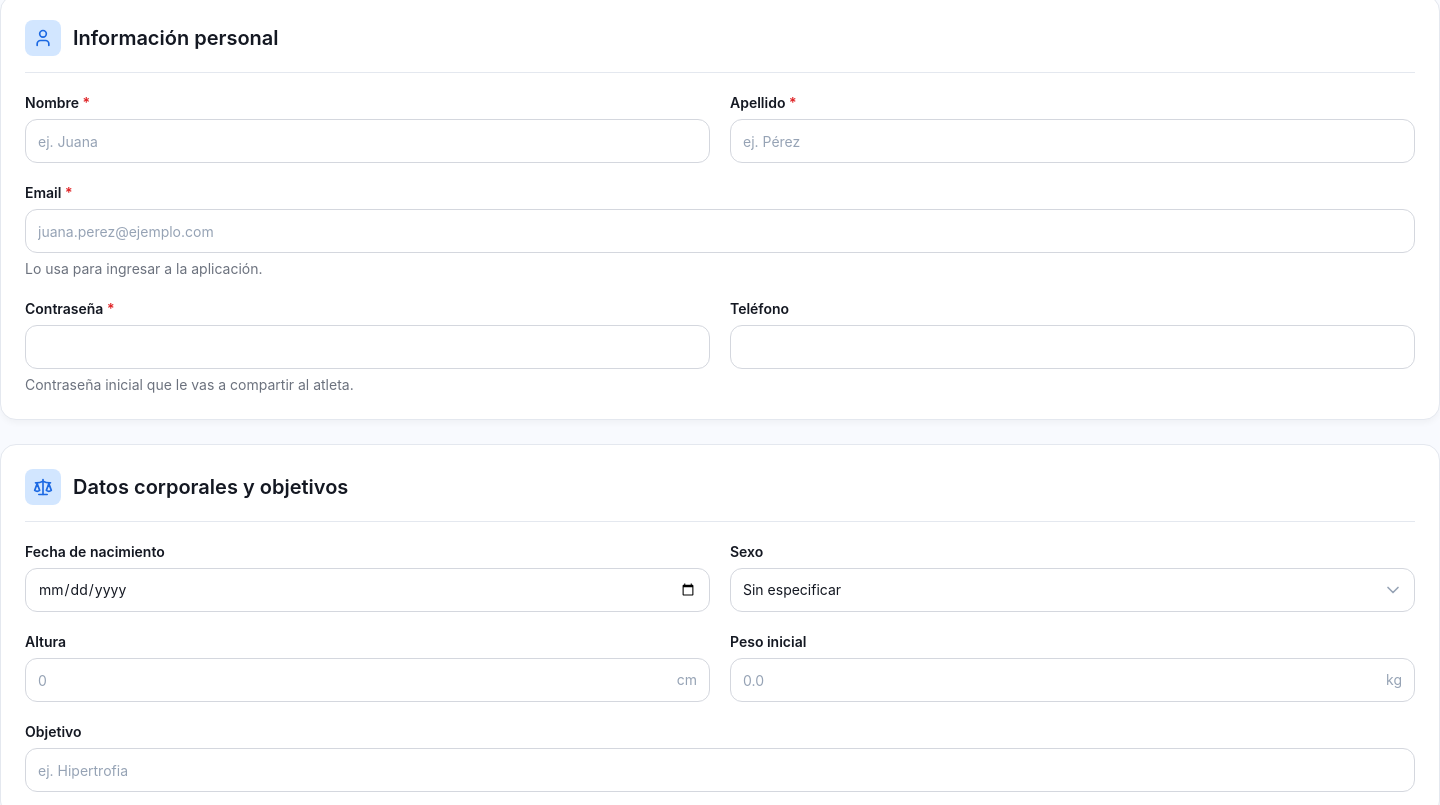
Test: RegisterAthleteForm › muestra un mensaje genérico ante un error inesperado
The image size is (1440, 805).
Step 1. Type " Juana " into the field labelled "Nombre *" → (368, 141), box [25,119,710,163]
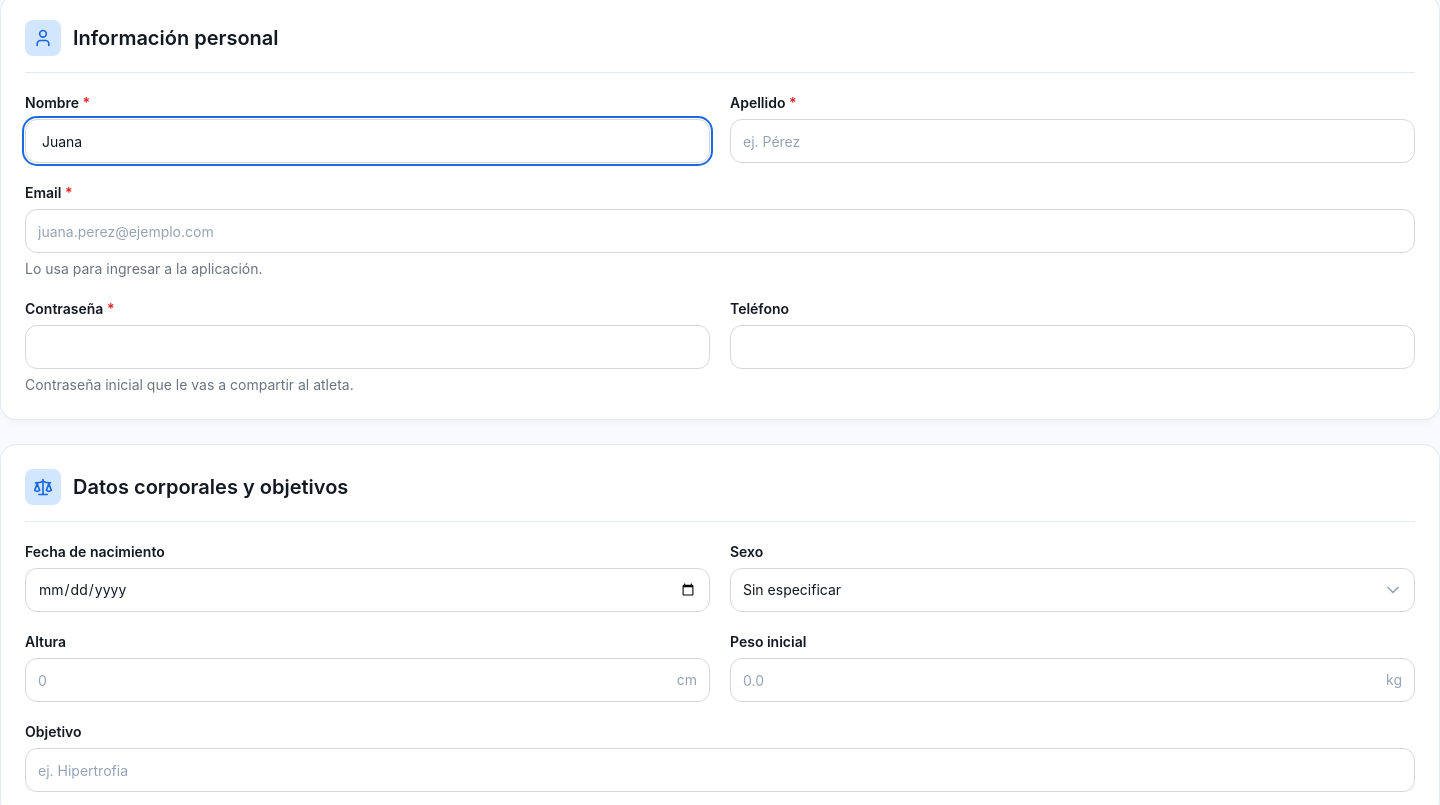
Step 2. Type "Pérez" into the field labelled "Apellido *" → (1072, 141), box [730,119,1415,163]
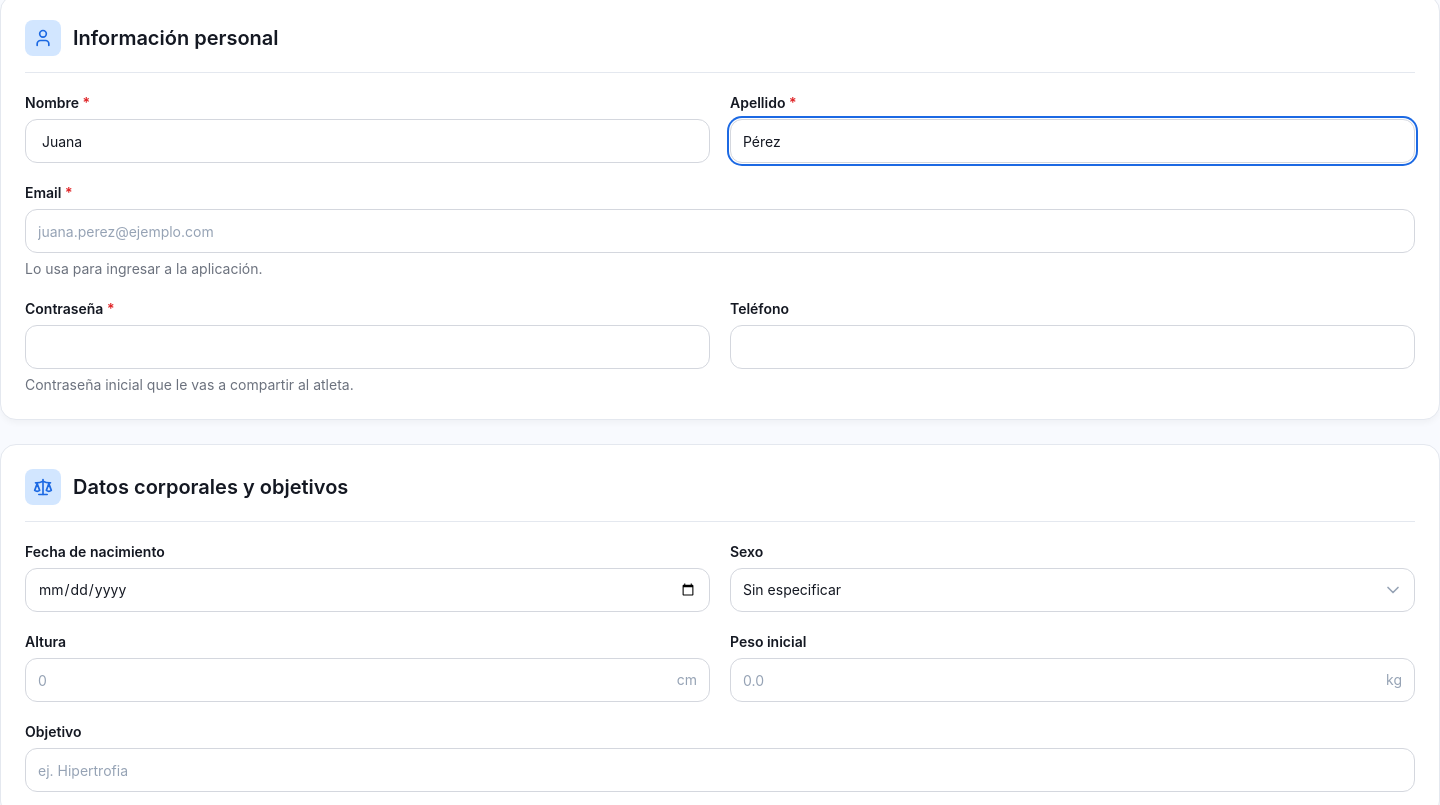
Step 3. Type "juana@example.com" into the field labelled "Email *" → (720, 231), box [25,209,1415,253]
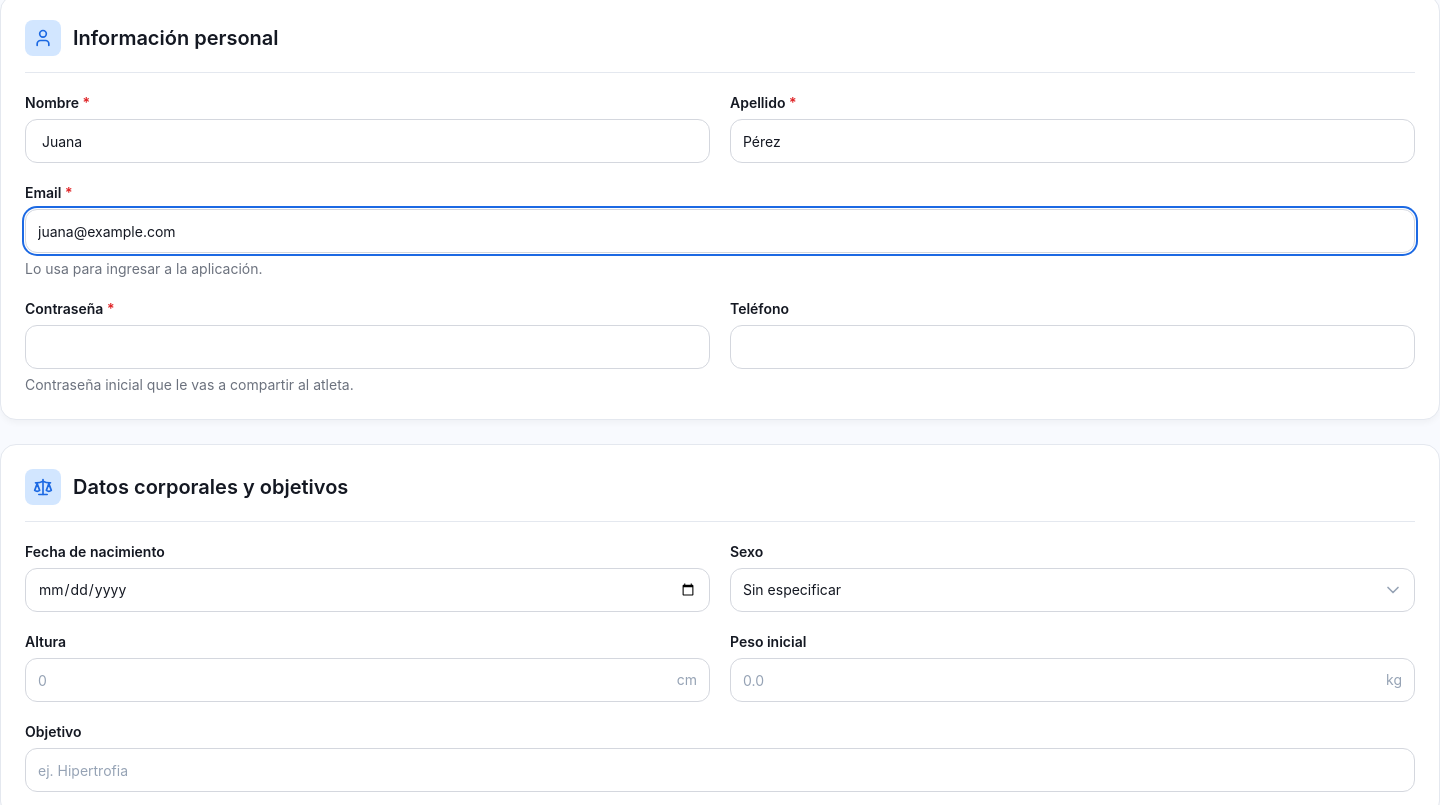
Step 4. Type "12345678" into the password field labelled "Contraseña *" → (368, 347), box [25,325,710,369]
(page scrolled)
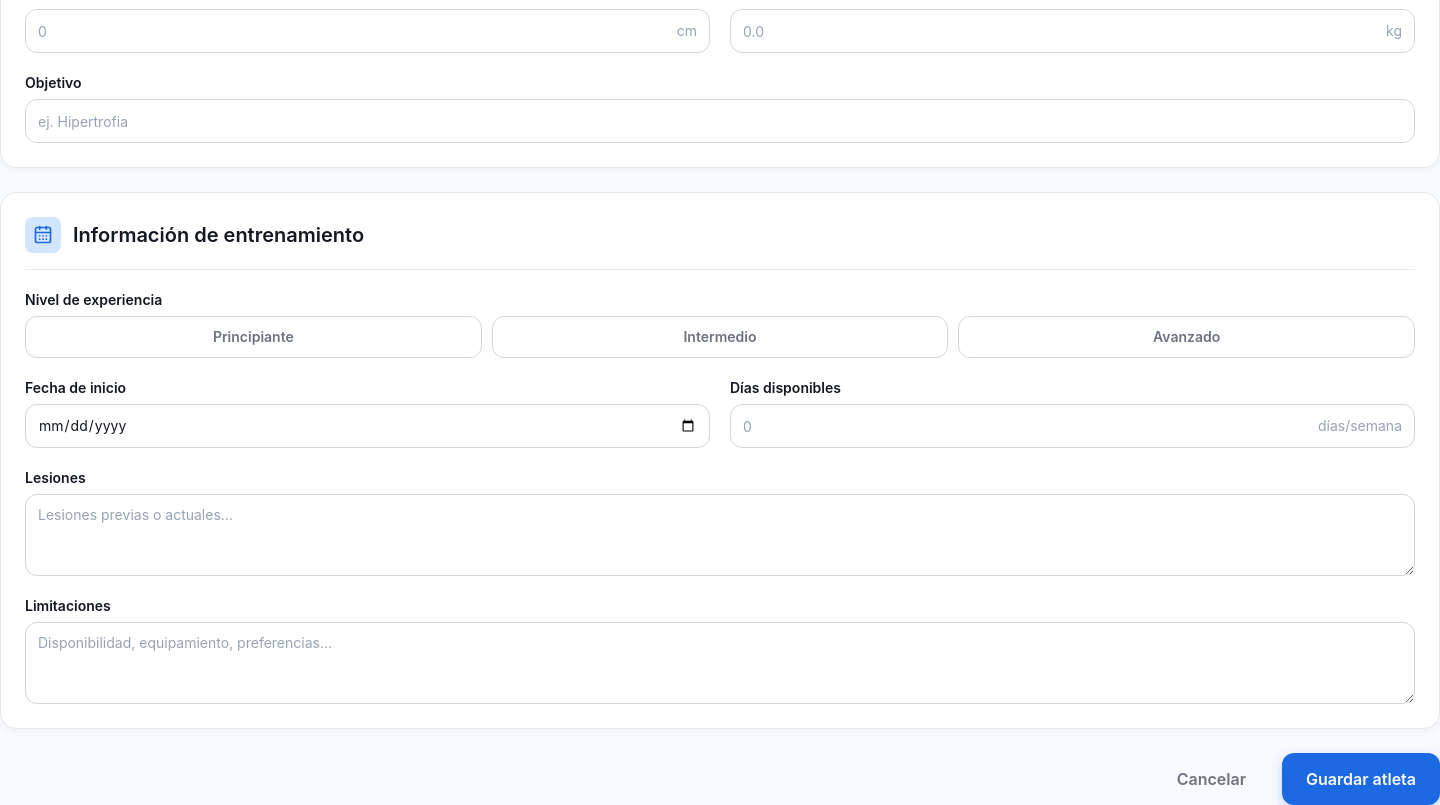
Step 5. Click the button "Guardar atleta" → (1361, 779), box [1282,753,1439,804]
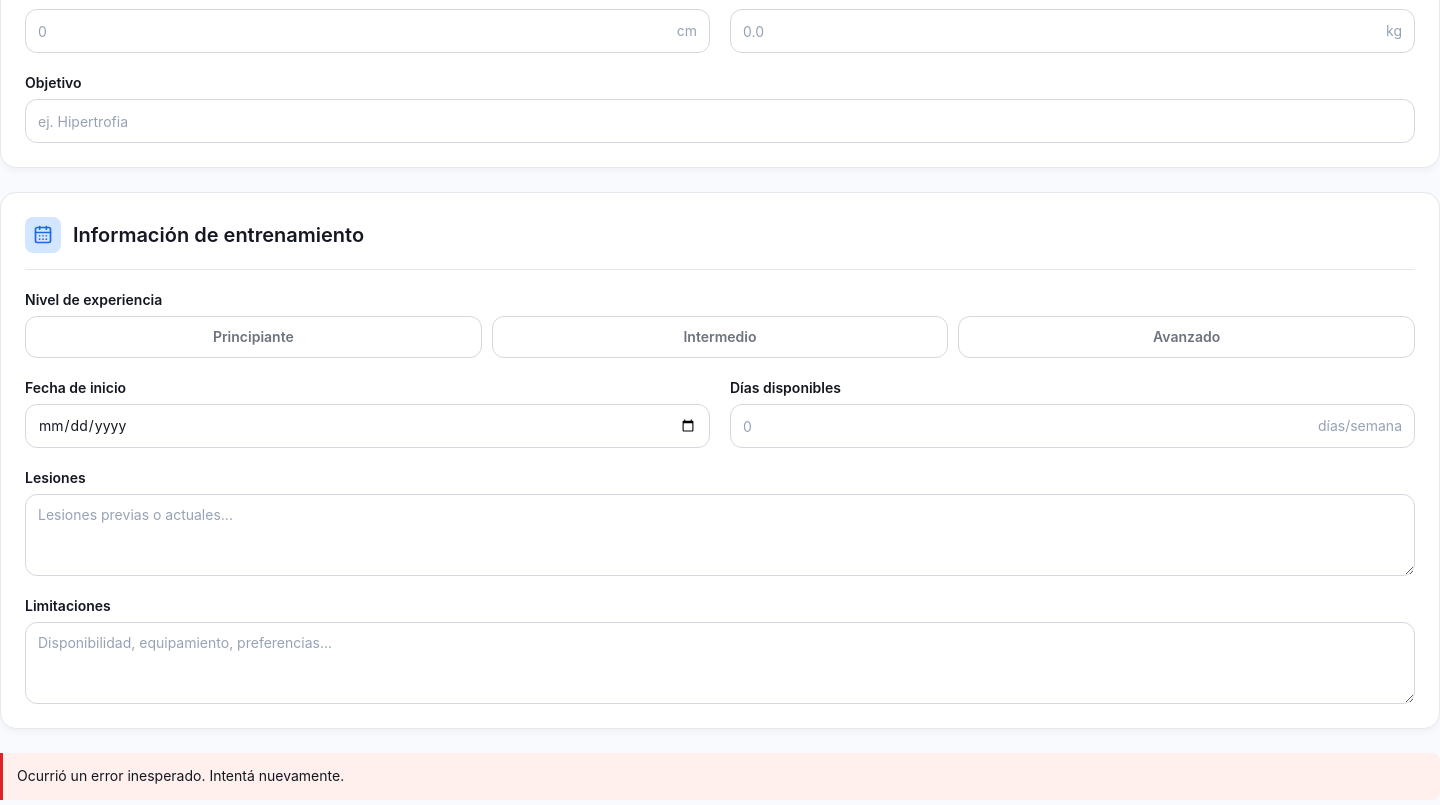
Result: the message reads "Ocurrió un error inesperado. Intentá nuevamente." at [17,767,344,784]
